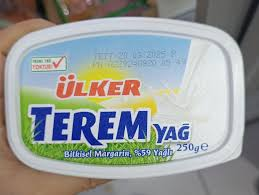margarine: (8, 19, 247, 183)
